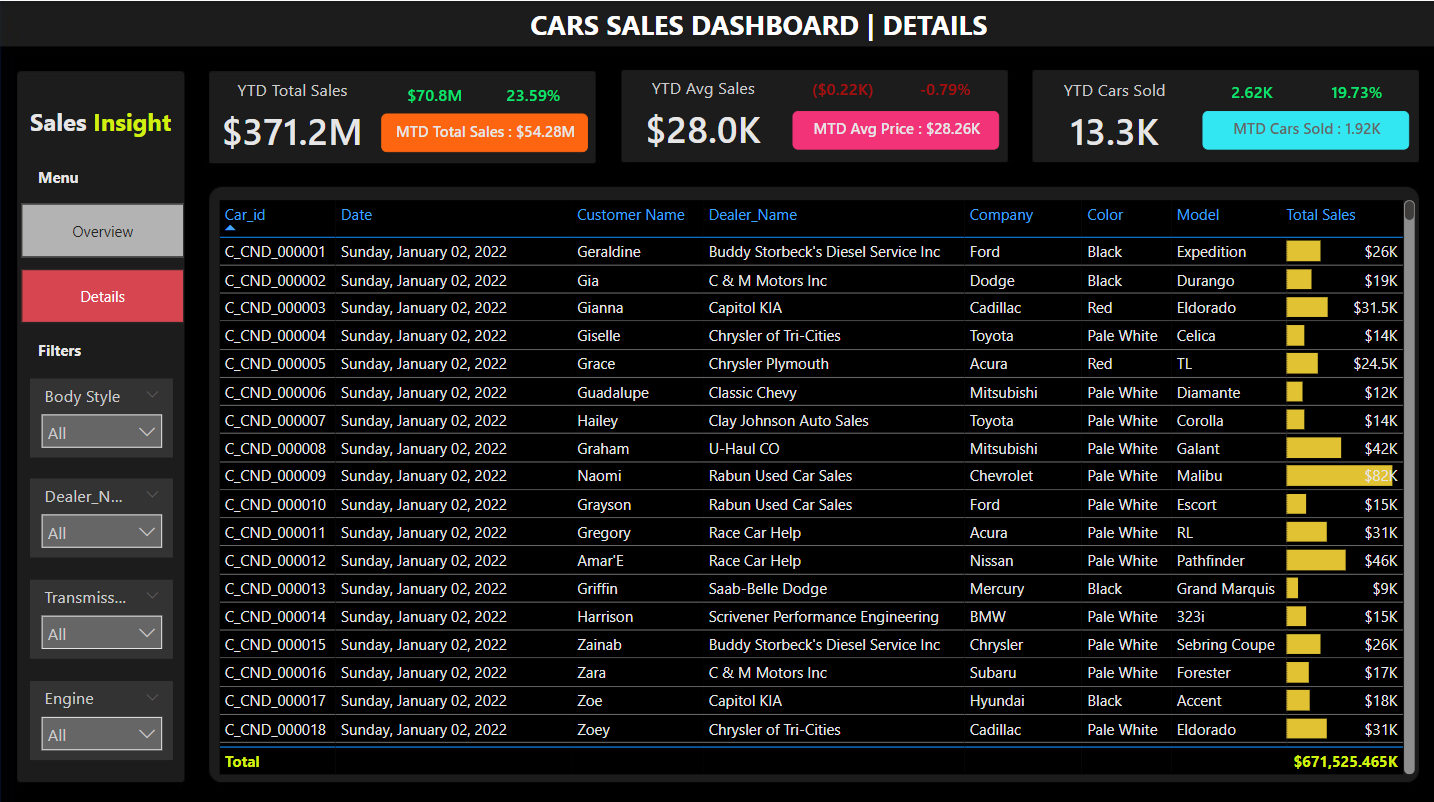

The dashboard page shown, as its layout file describes it:
{"tool":"powerbi","page":{"name":"Details","canvas":[1280,720],"ordinal":1},"visuals":[{"type":"card","title":"YTD Total Sales","fields":{"Values":["car_data.YTD Total Sales"]},"box":[192.1,68.6,135.8,74.1],"z":0},{"type":"card","fields":{"Values":["car_data.Sales Difference"]},"box":[348.5,71.4,78.2,26.1],"z":1000},{"type":"card","fields":{"Values":["car_data.YoY Sales Growth"]},"box":[436.4,71.4,78.2,26.1],"z":2000},{"type":"card","fields":{"Values":["car_data.MTD KPI"]},"box":[338.9,100.2,183.9,34.3],"z":3000},{"type":"card","title":"YTD Avg Sales","fields":{"Values":["car_data.YTD Avg Price"]},"box":[557.1,67.2,137.2,74.1],"z":5000},{"type":"card","fields":{"Values":["car_data.Avg Price Diff"]},"box":[710.8,65.9,78.2,26.1],"z":6000},{"type":"card","fields":{"Values":["car_data.YoY Avg Price Growth"]},"box":[802.7,65.9,78.2,26.1],"z":7000},{"type":"card","fields":{"Values":["car_data.MTD Avg Price KPI"]},"box":[705.3,97.4,183.9,34.3],"z":8000},{"type":"card","title":"YTD Cars Sold","fields":{"Values":["car_data.YTD Cars Sold"]},"box":[924,69.3,137.4,72.9],"z":9000},{"type":"card","fields":{"Values":["car_data.Cars Sold Diff"]},"box":[1076.2,69,77.6,25.9],"z":10000},{"type":"card","fields":{"Values":["car_data.YoY Car Sold Growth"]},"box":[1169.6,69,77.6,25.9],"z":11000},{"type":"card","fields":{"Values":["car_data.MTD Cars Sold KPI"]},"box":[1070.5,97.7,183.9,34.5],"z":12000},{"type":"textbox","box":[431.2,0,487.5,55],"z":18000},{"type":"slicer","fields":{"Values":["car_data.Body Style"]},"box":[26.2,336.2,127.5,70],"z":19000},{"type":"slicer","fields":{"Values":["car_data.Dealer_Name"]},"box":[26.2,425,127.5,70],"z":20000},{"type":"slicer","fields":{"Values":["car_data.Transmission"]},"box":[26.2,515,127.5,70],"z":21000},{"type":"slicer","fields":{"Values":["car_data.Engine"]},"box":[26.2,605,127.5,70],"z":22000},{"type":"tableEx","fields":{"Values":["car_data.Car_id","car_data.Date","car_data.Customer Name","car_data.Dealer_Name","car_data.Company","car_data.Color","car_data.Model","Sum(car_data.Price ($))"]},"box":[188.8,172.5,1075,521.2],"z":22001},{"type":"textbox","box":[15,87.5,150,48.8],"z":22002},{"type":"textbox","box":[28.8,142.5,75,30],"z":22003},{"type":"pageNavigator","box":[18.8,180,145,106.2],"z":22004},{"type":"textbox","box":[28.8,297.5,75,30],"z":22005}]}

Visuals, with their boxes on the page's 1280x720 design canvas (x1, y1, x2, y2). These are canvas units, not pixel positions in the 1434x802 screenshot, which may show the page scaled, cropped or inside an application window:
"YTD Total Sales" card: left=192, top=69, right=328, bottom=143
card - car_data.Sales Difference: left=348, top=71, right=427, bottom=98
card - car_data.YoY Sales Growth: left=436, top=71, right=515, bottom=98
card - car_data.MTD KPI: left=339, top=100, right=523, bottom=134
"YTD Avg Sales" card: left=557, top=67, right=694, bottom=141
card - car_data.Avg Price Diff: left=711, top=66, right=789, bottom=92
card - car_data.YoY Avg Price Growth: left=803, top=66, right=881, bottom=92
card - car_data.MTD Avg Price KPI: left=705, top=97, right=889, bottom=132
"YTD Cars Sold" card: left=924, top=69, right=1061, bottom=142
card - car_data.Cars Sold Diff: left=1076, top=69, right=1154, bottom=95
card - car_data.YoY Car Sold Growth: left=1170, top=69, right=1247, bottom=95
card - car_data.MTD Cars Sold KPI: left=1070, top=98, right=1254, bottom=132
textbox: left=431, top=0, right=919, bottom=55
slicer - car_data.Body Style: left=26, top=336, right=154, bottom=406
slicer - car_data.Dealer_Name: left=26, top=425, right=154, bottom=495
slicer - car_data.Transmission: left=26, top=515, right=154, bottom=585
slicer - car_data.Engine: left=26, top=605, right=154, bottom=675
tableEx - car_data.Car_id x car_data.Date: left=189, top=172, right=1264, bottom=694
textbox: left=15, top=88, right=165, bottom=136
textbox: left=29, top=142, right=104, bottom=172
pageNavigator: left=19, top=180, right=164, bottom=286
textbox: left=29, top=298, right=104, bottom=328
